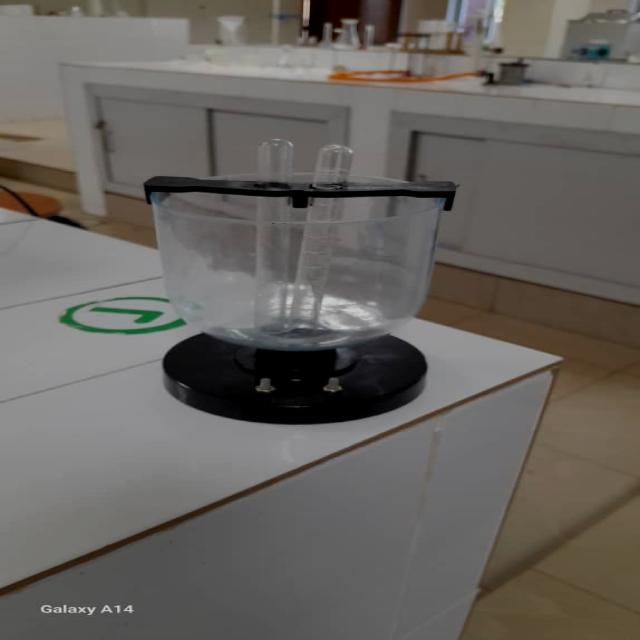Electrolyzer: (109, 136, 467, 429)
